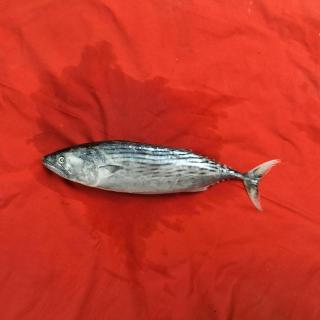Ikan: (44, 137, 272, 234)
